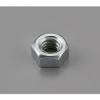Thread: (36, 35, 65, 59)
